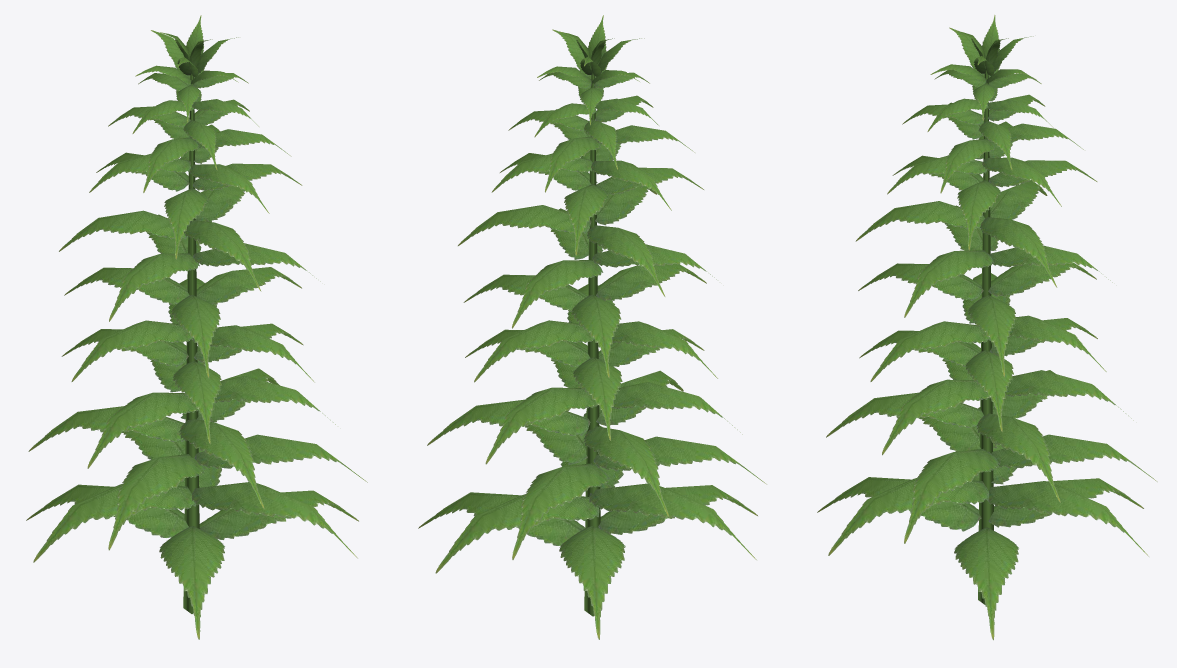
Rendered from plant19.FBX.
3 renders of one model, left to right at view 1: azimuth 30°, elevation 25°; view 2: azimuth 150°, elevation 25°; view 3: azimuth 270°, elevation 25°, orthographic.
Visible parts, largest first — view 1: plant19; view 2: plant19; view 3: plant19.
Part boxes in pixels (x1,y1,x2,y2): plant19: [26, 15, 367, 639]; plant19: [418, 15, 766, 639]; plant19: [817, 15, 1157, 640].
Size of the model in its own units: 1.93 by 3.21 by 1.81.
